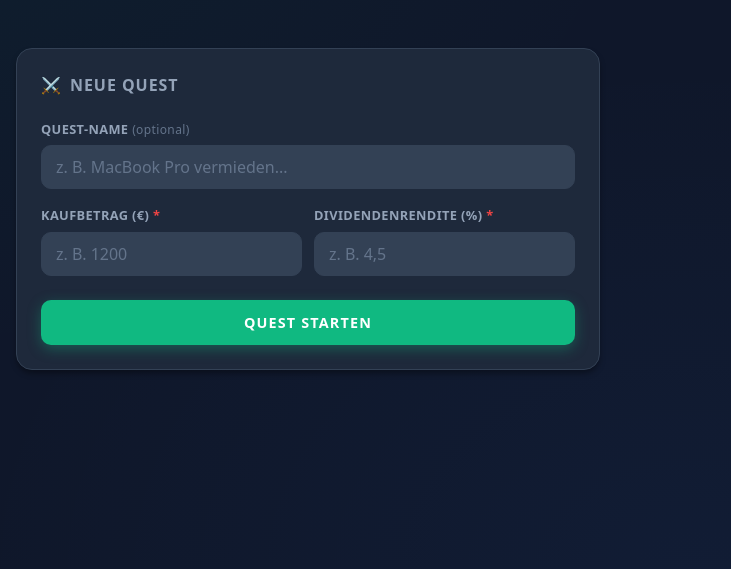
Test case: QuestForm › shows XP toast after successful submission
Type "750" into the field labelled "Kaufbetrag (€) *". click: (172, 254)
box: [41,232,302,276]
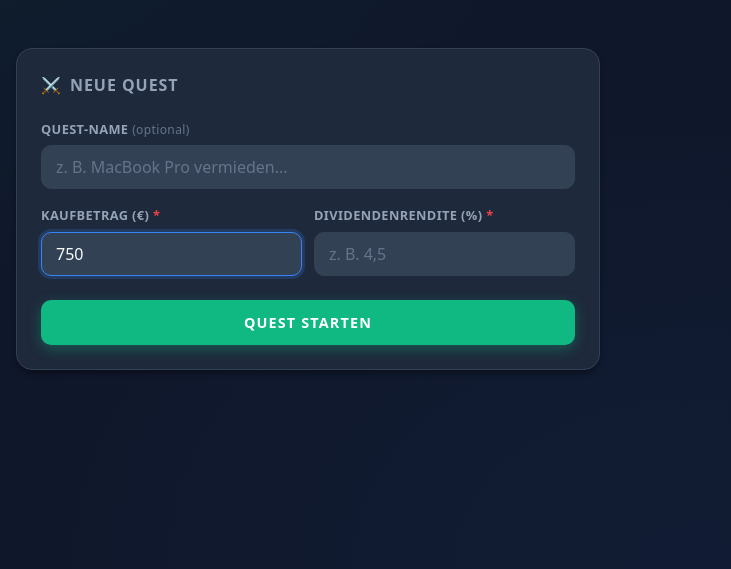
Type "4" into the field labelled "Dividendenrendite (%) *". click: (444, 254)
box: [314,232,575,276]
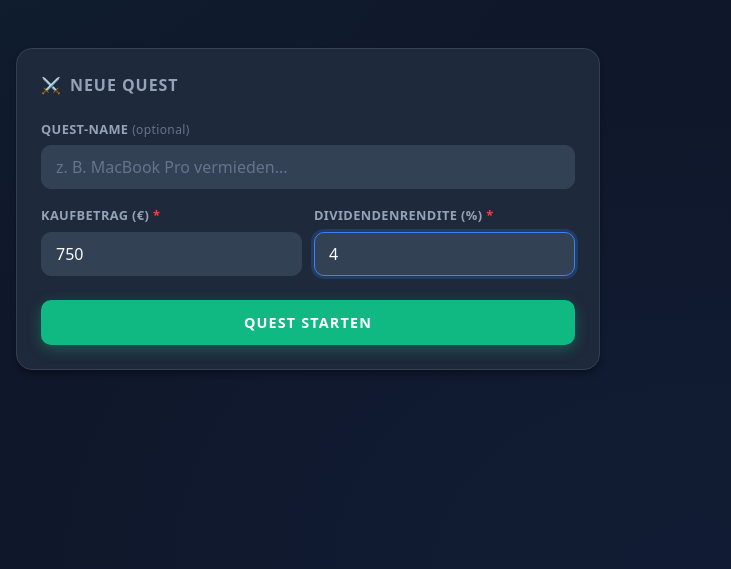
Click the button "Quest starten". click: click(308, 322)
box: [41,300,575,345]
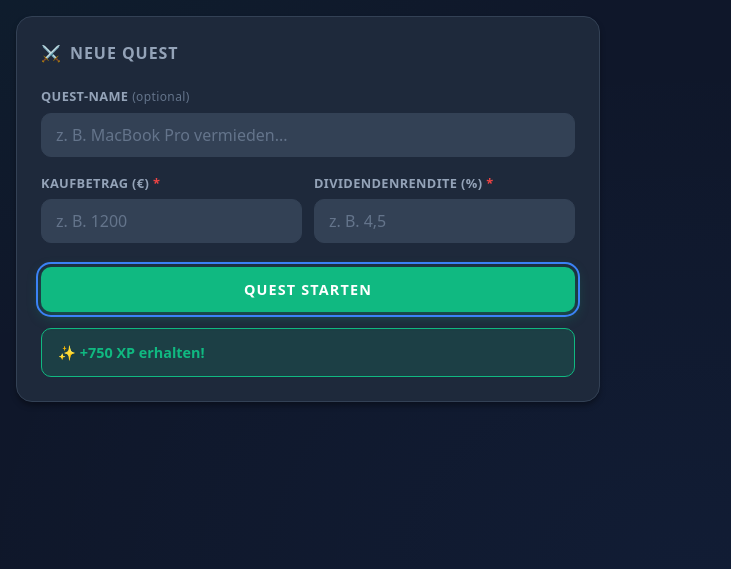
expect the message shows "XP": met, box [80,343,205,362]
